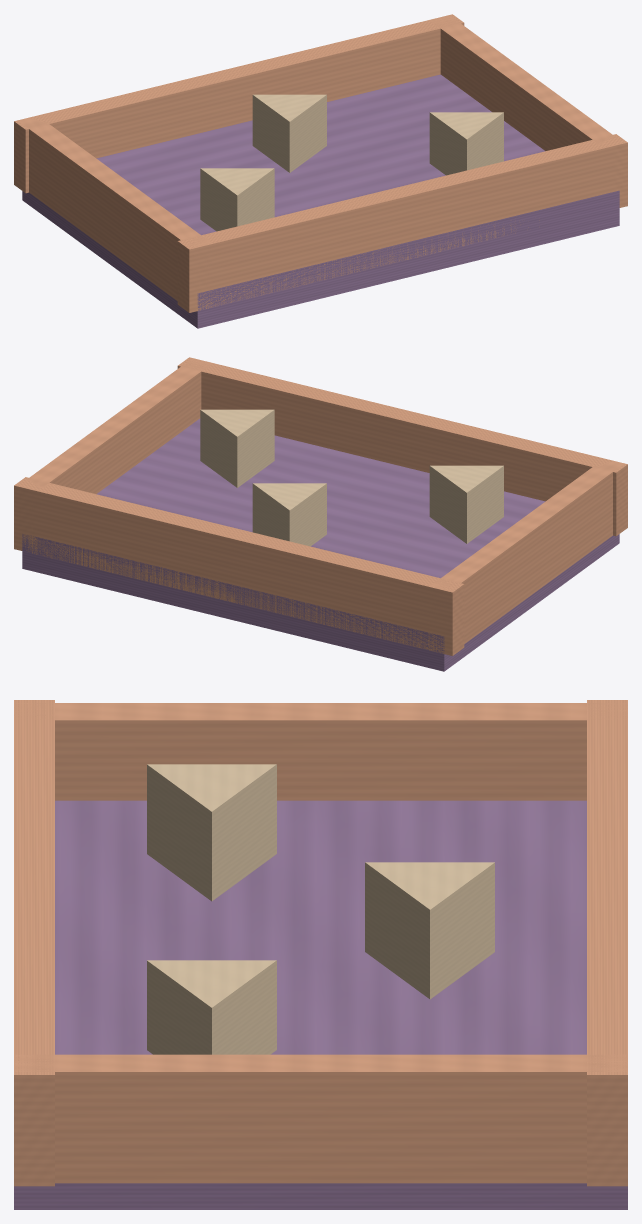
The model's file is atlas100-s087-a04.lod2.glb.
3 views of the same model, one above another, from view 1: azimuth 30°, elevation 25°; view 2: azimuth 150°, elevation 25°; view 3: azimuth 270°, elevation 25° (orthographic). The views are drawn at different scales.
Parts seen in each view (by area): view 1: atlas100-s087-a04:part-000, atlas100-s087-a04:part-002, atlas100-s087-a04:part-001, atlas100-s087-a04:part-003, atlas100-s087-a04:part-004, atlas100-s087-a04:part-006, atlas100-s087-a04:part-010, atlas100-s087-a04:part-008; view 2: atlas100-s087-a04:part-000, atlas100-s087-a04:part-001, atlas100-s087-a04:part-002, atlas100-s087-a04:part-003, atlas100-s087-a04:part-004, atlas100-s087-a04:part-010, atlas100-s087-a04:part-008, atlas100-s087-a04:part-006; view 3: atlas100-s087-a04:part-000, atlas100-s087-a04:part-004, atlas100-s087-a04:part-003, atlas100-s087-a04:part-001, atlas100-s087-a04:part-002, atlas100-s087-a04:part-006, atlas100-s087-a04:part-008, atlas100-s087-a04:part-010.
Part boxes in pixels (bbox=[...]): atlas100-s087-a04:part-000: bbox=[22, 74, 619, 328]; atlas100-s087-a04:part-002: bbox=[177, 134, 627, 312]; atlas100-s087-a04:part-001: bbox=[14, 14, 464, 193]; atlas100-s087-a04:part-003: bbox=[17, 118, 212, 311]; atlas100-s087-a04:part-004: bbox=[430, 15, 624, 207]; atlas100-s087-a04:part-006: bbox=[252, 94, 326, 172]; atlas100-s087-a04:part-010: bbox=[429, 112, 503, 175]; atlas100-s087-a04:part-008: bbox=[200, 168, 274, 231]; atlas100-s087-a04:part-000: bbox=[22, 418, 619, 671]; atlas100-s087-a04:part-001: bbox=[14, 477, 464, 655]; atlas100-s087-a04:part-002: bbox=[177, 357, 627, 536]; atlas100-s087-a04:part-003: bbox=[429, 461, 624, 652]; atlas100-s087-a04:part-004: bbox=[17, 358, 211, 554]; atlas100-s087-a04:part-010: bbox=[200, 409, 274, 487]; atlas100-s087-a04:part-008: bbox=[429, 465, 503, 543]; atlas100-s087-a04:part-006: bbox=[252, 483, 326, 546]; atlas100-s087-a04:part-000: bbox=[14, 800, 627, 1209]; atlas100-s087-a04:part-004: bbox=[14, 1054, 627, 1183]; atlas100-s087-a04:part-003: bbox=[14, 703, 627, 800]; atlas100-s087-a04:part-001: bbox=[587, 700, 627, 1186]; atlas100-s087-a04:part-002: bbox=[14, 700, 54, 1186]; atlas100-s087-a04:part-006: bbox=[365, 862, 494, 999]; atlas100-s087-a04:part-008: bbox=[147, 764, 276, 901]; atlas100-s087-a04:part-010: bbox=[147, 960, 276, 1054].
Bounding box in the file's own units: 1.39 × 0.2619 × 0.9621.
Materials: 3 (3 with a texture image).
